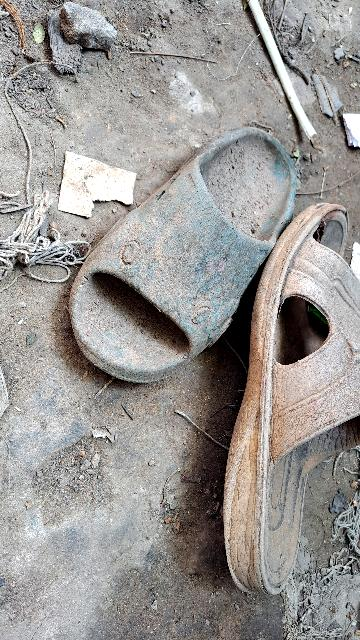sandal: (47, 106, 353, 415), (229, 204, 360, 607)
